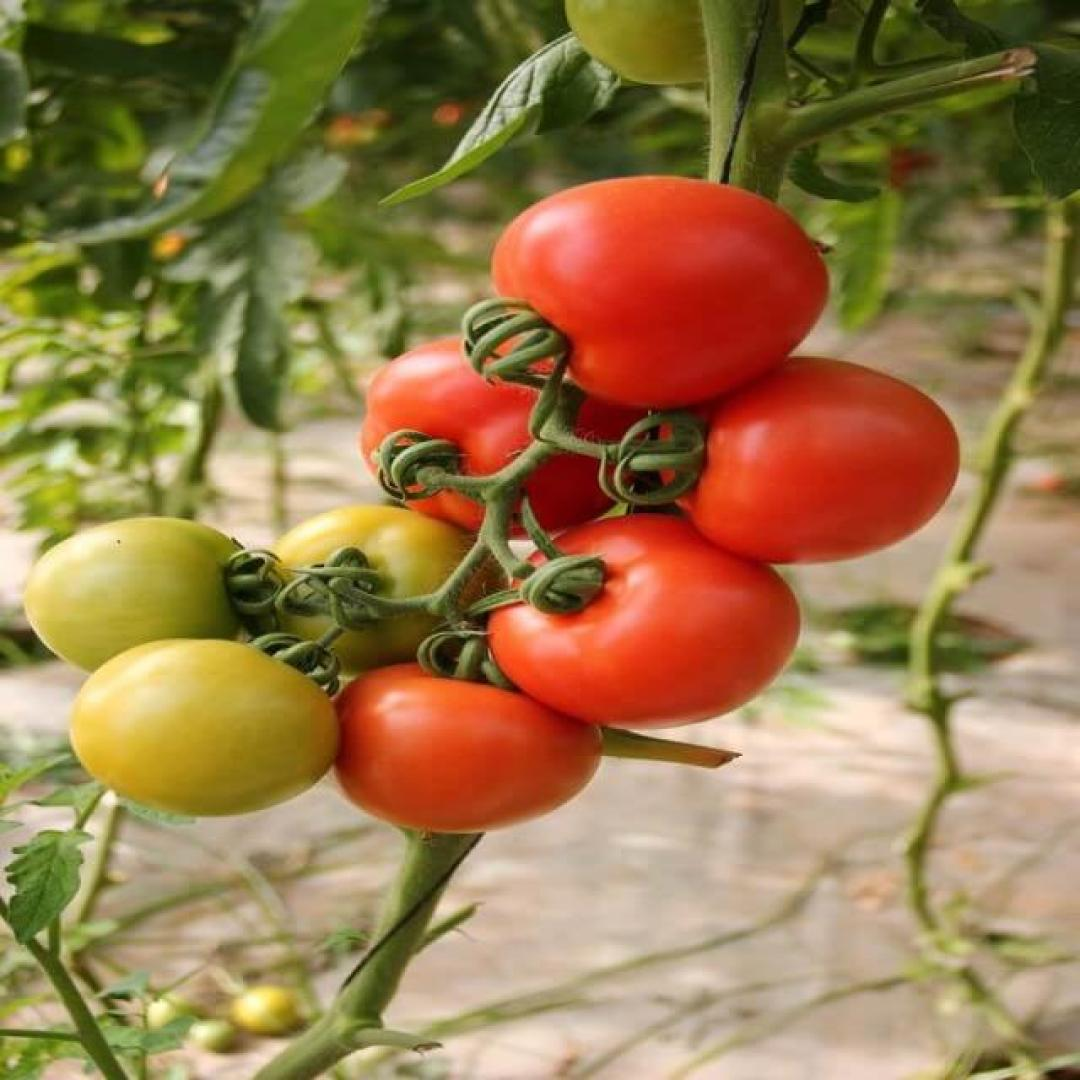matang: (481, 172, 834, 408), (477, 509, 805, 732), (653, 352, 965, 568), (320, 656, 600, 836)
setengah_matang: (61, 636, 344, 820), (15, 513, 262, 687)
